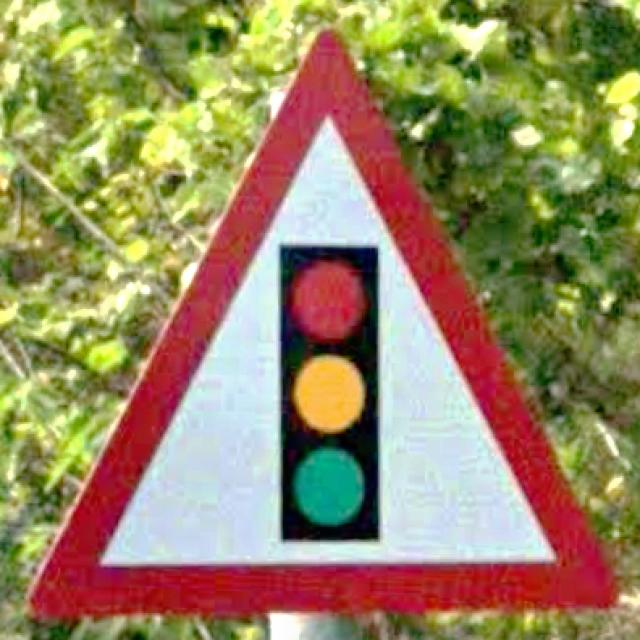signalahead: (22, 25, 620, 623)
